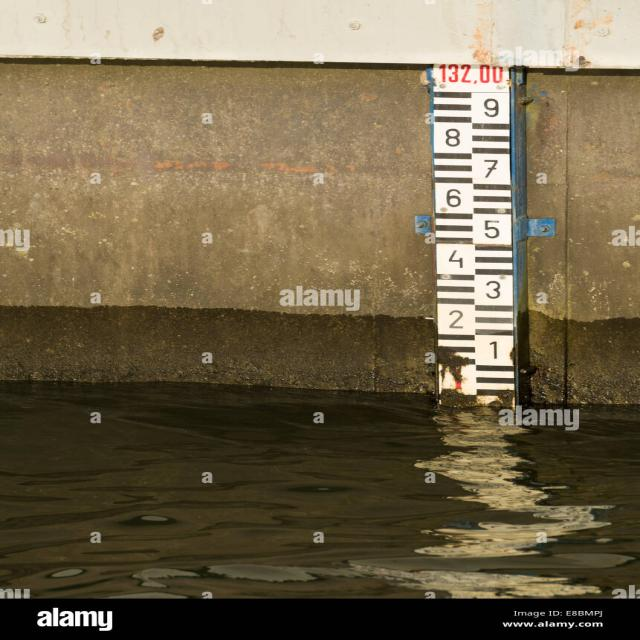ruler: (412, 57, 527, 418)
value: (431, 62, 508, 87), (436, 120, 469, 154), (441, 303, 473, 336), (475, 215, 509, 246), (476, 274, 508, 306), (478, 92, 510, 124), (435, 186, 471, 211), (482, 336, 510, 366), (475, 156, 507, 181), (440, 246, 470, 272)
